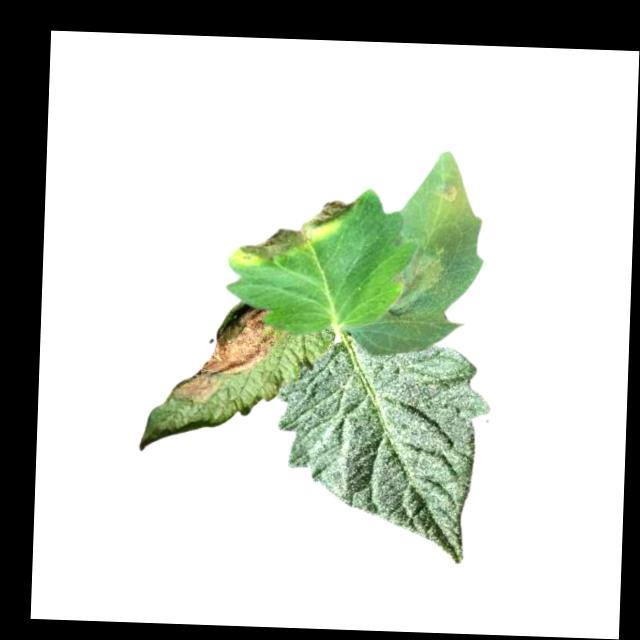Late_blight: (171, 306, 278, 407), (230, 198, 354, 271), (389, 231, 450, 318), (441, 179, 469, 214)
healthy: (271, 340, 492, 566)
